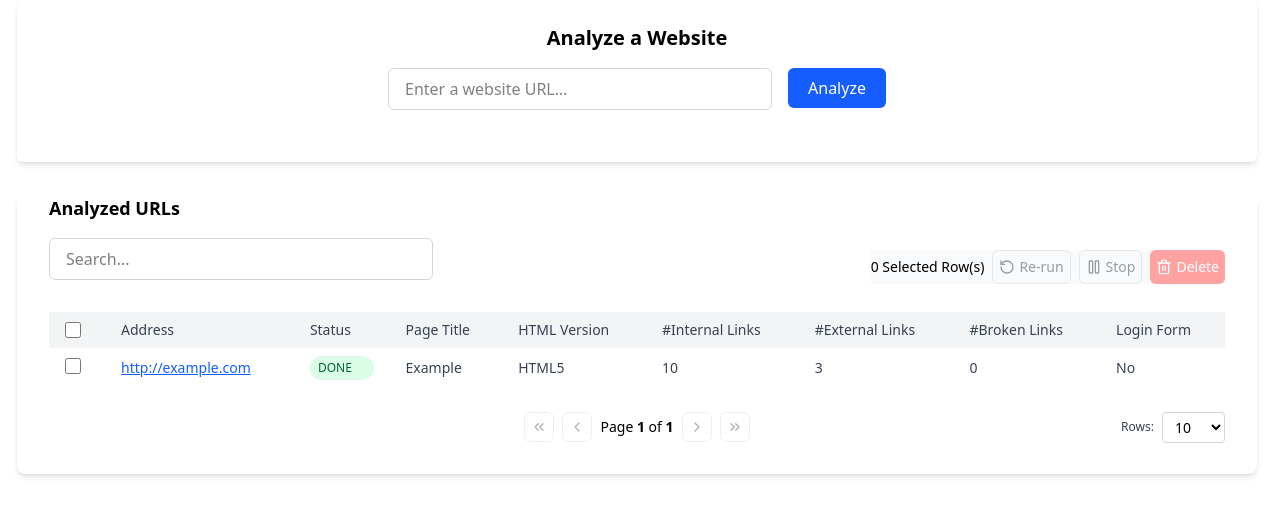
Test: DashboardPage › displays error for invalid URL input
The image size is (1275, 519).
Type "not a url" into the field with placeholder "Enter a website URL…". click: (580, 89)
box: [388,68,772,110]
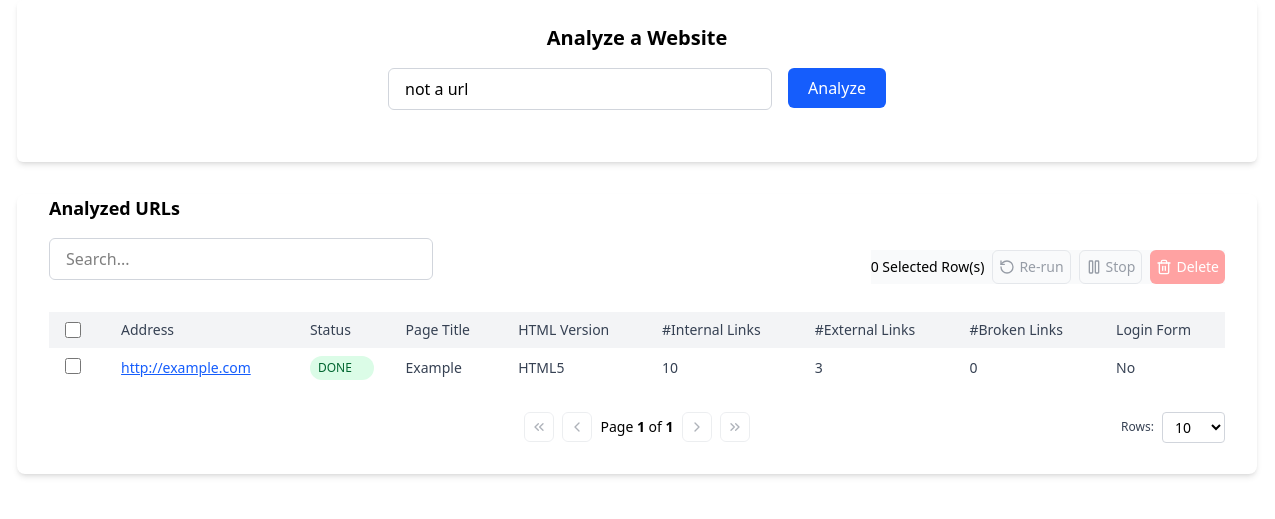
Click the button "Analyze". click: (837, 88)
box: [788,68,886,108]
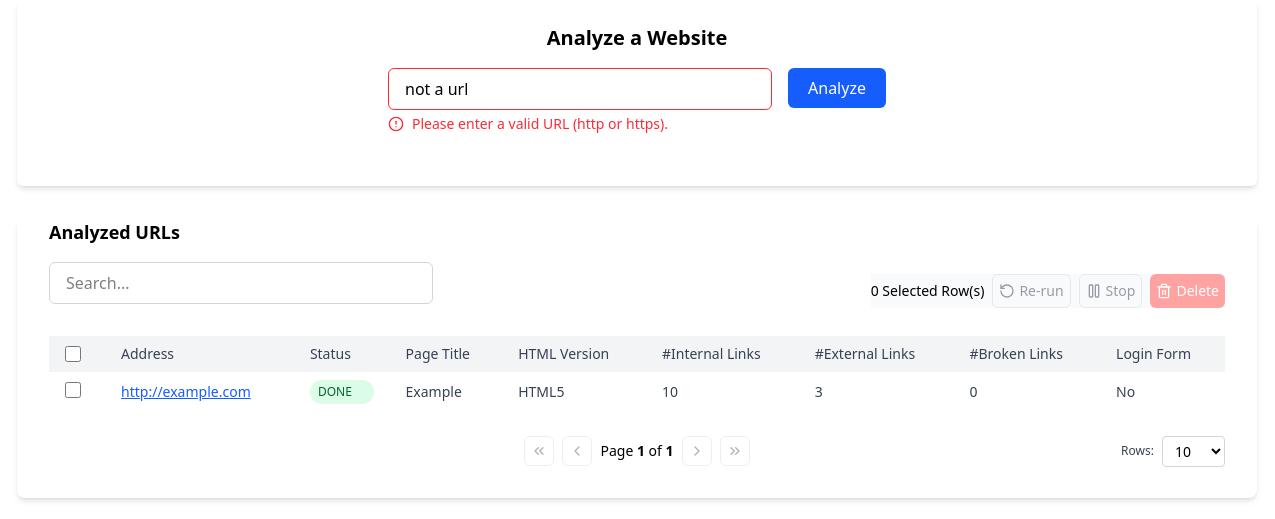
Result: the text "Please enter a valid URL (http or https)." is shown at [388,114,668,133]
